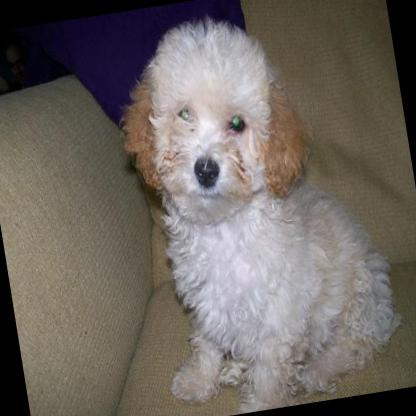miniature_poodle: (101, 0, 412, 416)
